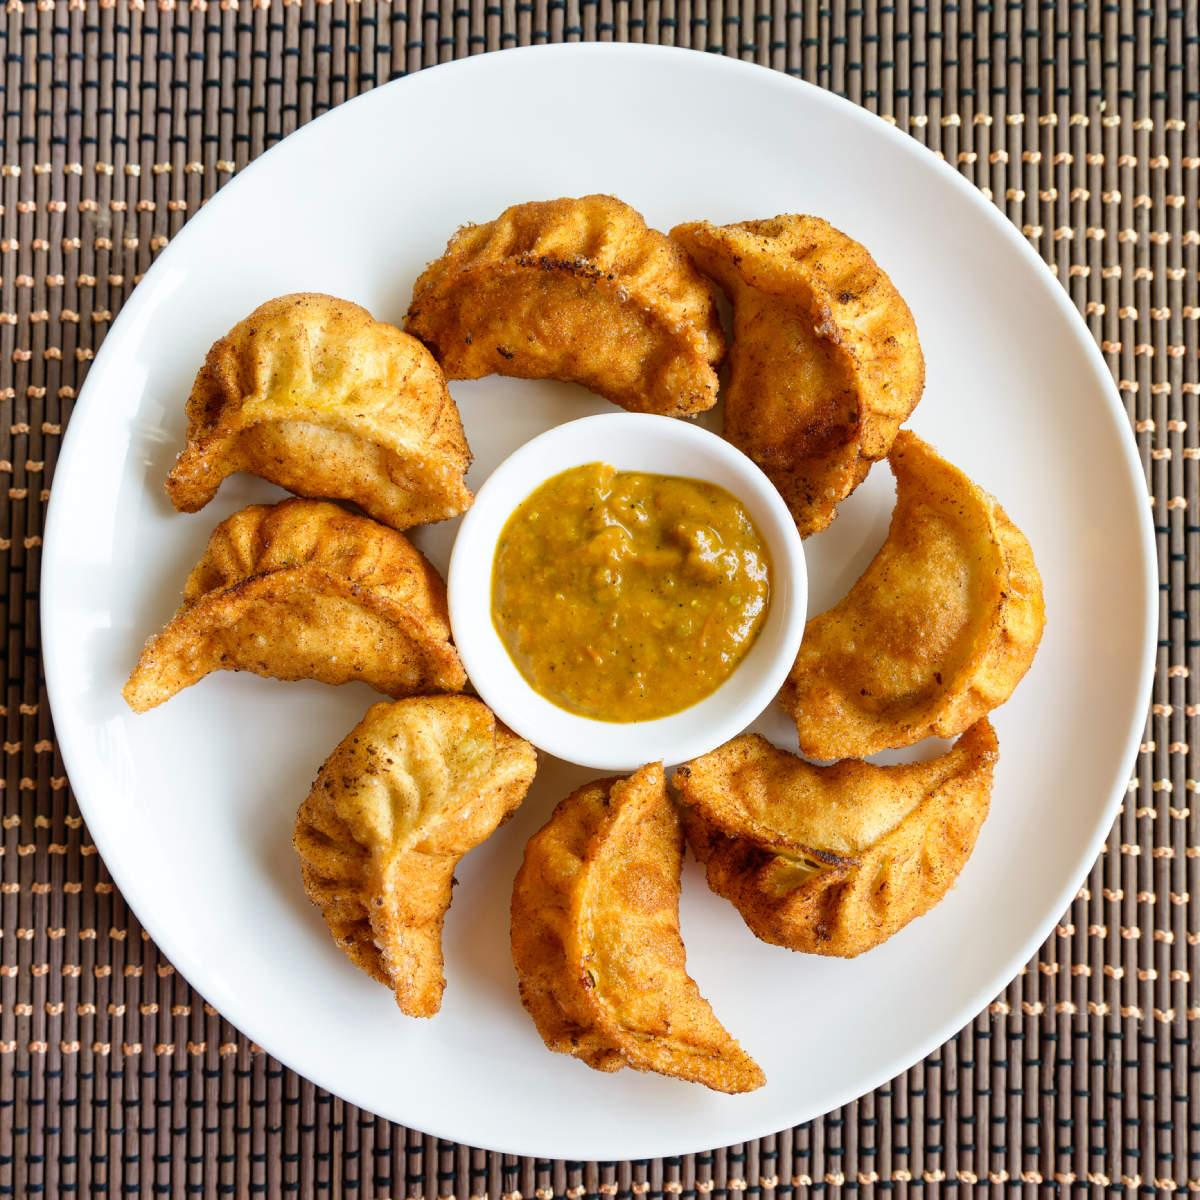momos: (780, 431, 1045, 759), (511, 764, 764, 1092), (670, 215, 923, 534), (293, 693, 536, 1016), (673, 720, 999, 955), (122, 499, 466, 711), (405, 195, 724, 416)
